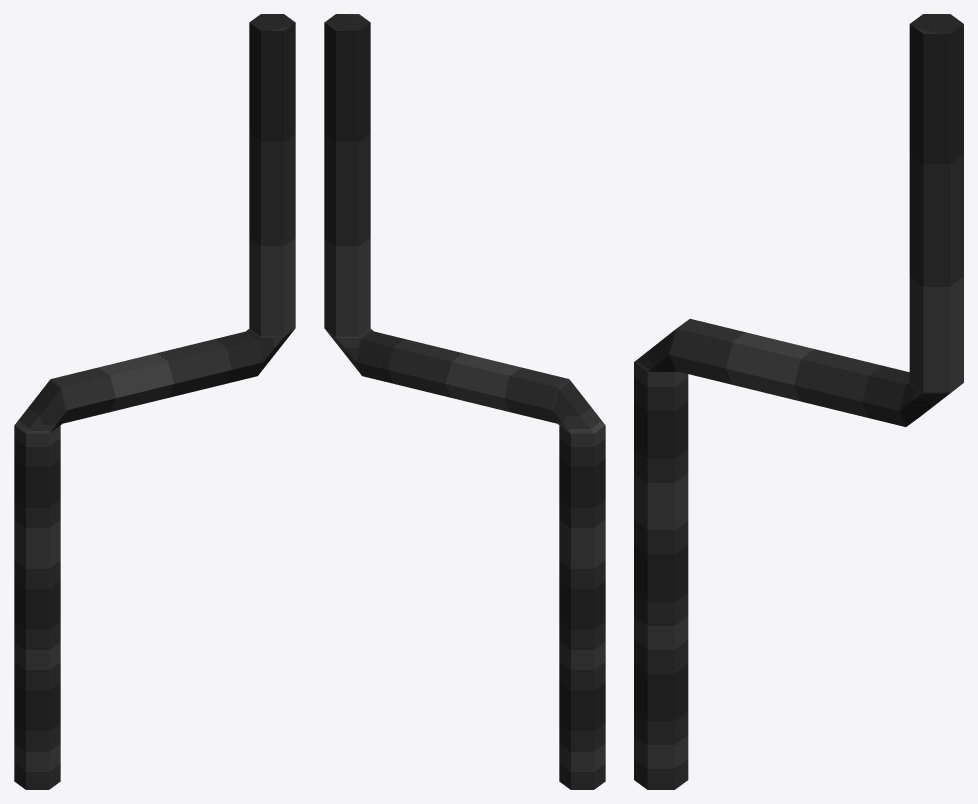
File: pipe.fbx
The picture shows the model from 3 angles, left to right: view 1: azimuth 30°, elevation 25°; view 2: azimuth 150°, elevation 25°; view 3: azimuth 330°, elevation 25°; orthographic projection. The views are drawn at different scales.
Visible parts, largest first — view 1: Cylinder; view 2: Cylinder; view 3: Cylinder.
Boxes of the visible parts, bbox=[...] form: Cylinder: bbox=[14, 14, 295, 789]; Cylinder: bbox=[324, 14, 605, 789]; Cylinder: bbox=[634, 14, 963, 789].
Bounding box in the file's own units: 1346 × 3349 × 200.
